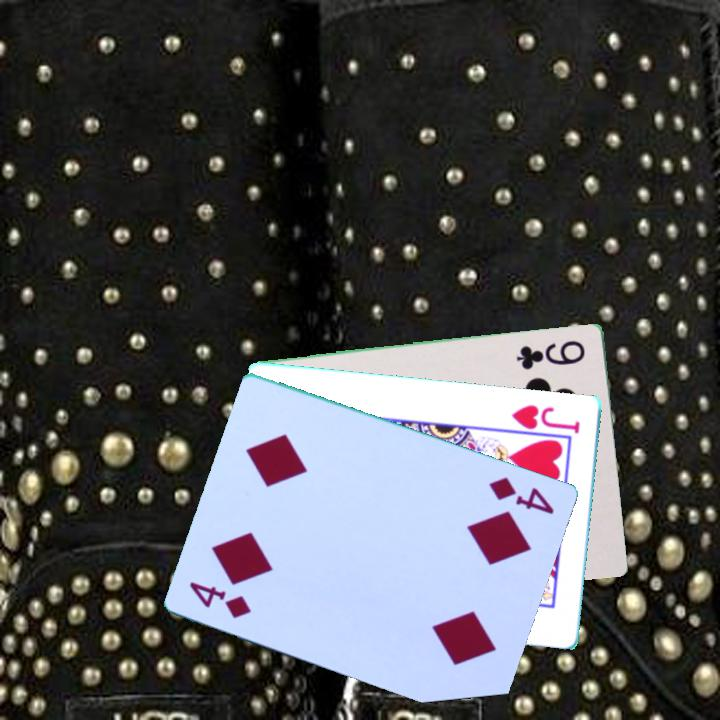4d: (486, 473, 558, 517), (186, 577, 255, 621)
9c: (513, 336, 588, 373)
Jh: (508, 400, 583, 437)
